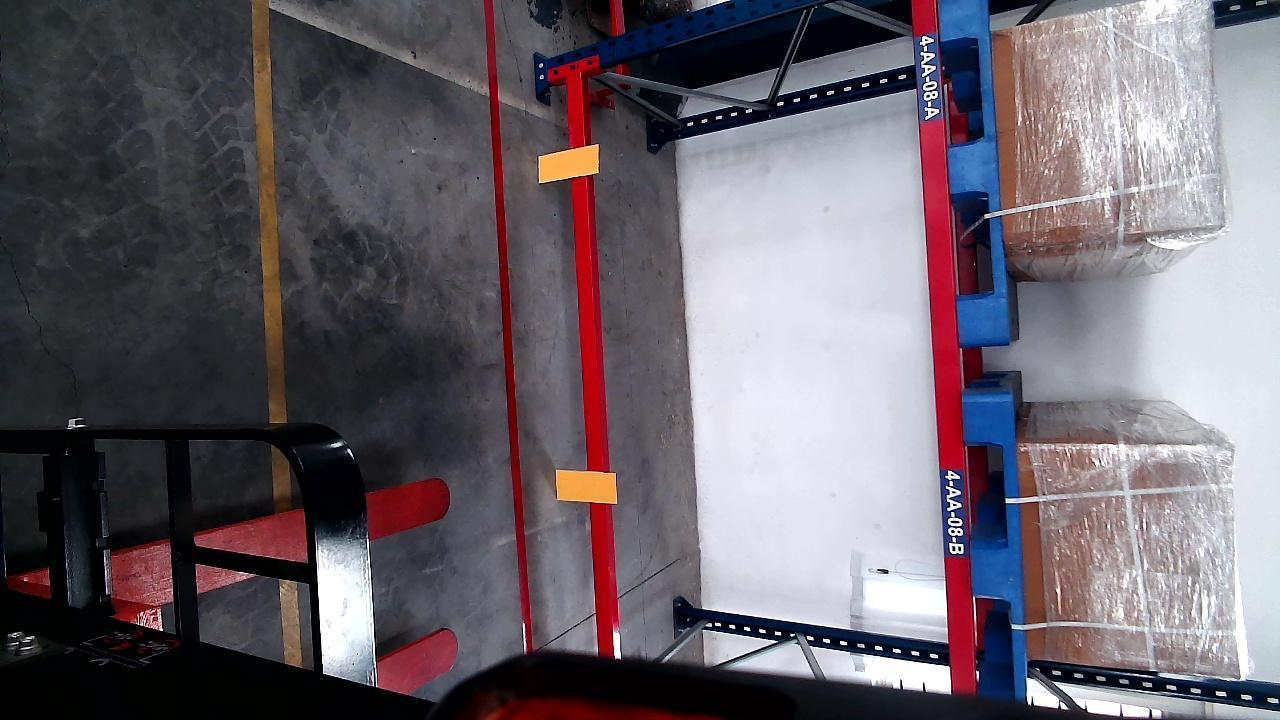h_rack: (913, 0, 972, 687), (568, 71, 618, 659)
orange_strip: (537, 144, 598, 183), (555, 469, 616, 502)
red_line: (483, 0, 535, 650)
small_pallet: (940, 0, 1007, 342), (967, 397, 1026, 686)
yellow_line: (254, 2, 287, 422)
